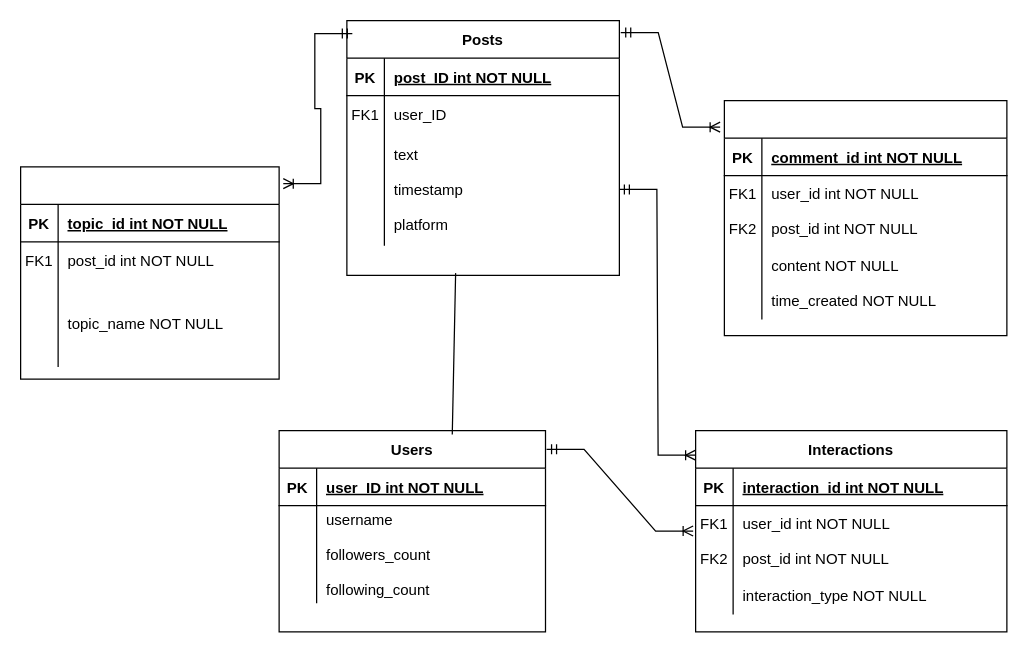
The diagram is 1028 pixels wide and 653 high, and some of its shapes have lost their labels. The box of each missing label's shape, as (x1, y1, x2, y2) in pixels:
Comments: (723, 99, 1007, 336)
Topics: (19, 166, 279, 379)
